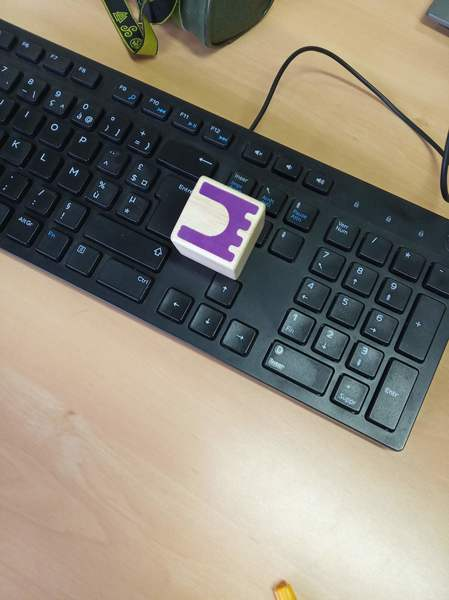violet: (175, 180, 264, 268)
